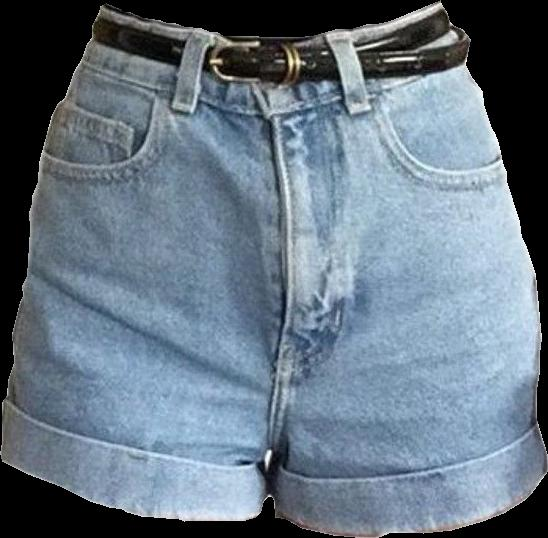Hemline: (273, 469, 547, 537), (1, 456, 263, 523)
Pantleg: (250, 2, 547, 536), (1, 4, 282, 520)
Waistline: (78, 59, 468, 118), (101, 2, 440, 41)
